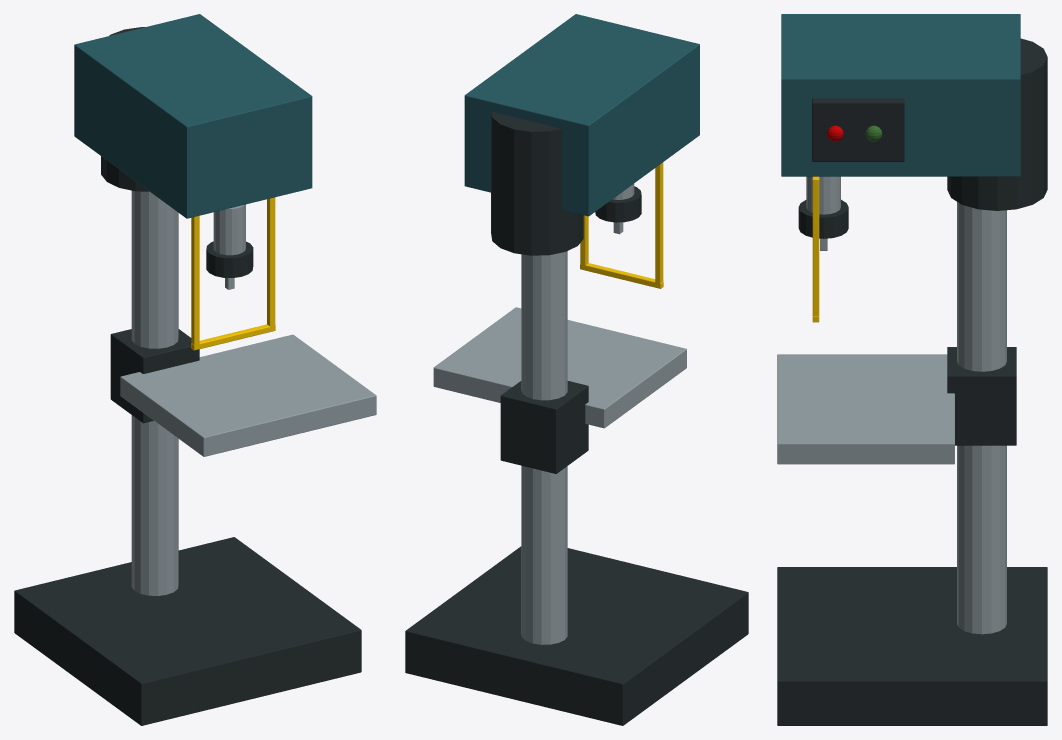
File: source-edit.glb
3 views of the same model, side by side, from view 1: azimuth 30°, elevation 25°; view 2: azimuth 150°, elevation 25°; view 3: azimuth 270°, elevation 25° (orthographic). The views are drawn at different scales.
Visible parts, largest first — view 1: Base, Headstock, Adjustable_Worktable, Column, Column_Collar, Quill, Chuck, Guard_Post, Guard_Post.001, Motor, Guard_Crossbar; view 2: Base, Headstock, Column, Adjustable_Worktable, Motor, Column_Collar, Guard_Post, Chuck, Guard_Crossbar; view 3: Base, Headstock, Adjustable_Worktable, Column, Motor, Control_Panel, Column_Collar, Chuck, Guard_Post.001, Quill.
Boxes of the visible parts, bbox=[...] form: Base: bbox=[14, 537, 361, 725]; Headstock: bbox=[74, 14, 312, 218]; Adjustable_Worktable: bbox=[120, 334, 376, 456]; Column: bbox=[131, 190, 178, 595]; Column_Collar: bbox=[110, 329, 199, 423]; Quill: bbox=[213, 204, 245, 255]; Chuck: bbox=[206, 241, 253, 277]; Guard_Post: bbox=[191, 215, 199, 346]; Guard_Post.001: bbox=[267, 197, 275, 328]; Motor: bbox=[101, 27, 149, 191]; Guard_Crossbar: bbox=[191, 324, 275, 350]; Base: bbox=[405, 546, 748, 725]; Headstock: bbox=[464, 14, 699, 216]; Column: bbox=[521, 251, 567, 644]; Adjustable_Worktable: bbox=[433, 307, 686, 428]; Motor: bbox=[491, 111, 583, 255]; Column_Collar: bbox=[500, 381, 588, 473]; Guard_Post: bbox=[655, 162, 663, 285]; Chuck: bbox=[595, 186, 641, 222]; Guard_Crossbar: bbox=[580, 263, 663, 288]; Base: bbox=[777, 567, 1047, 725]; Headstock: bbox=[781, 14, 1020, 176]; Adjustable_Worktable: bbox=[777, 354, 954, 464]; Column: bbox=[957, 202, 1006, 634]; Motor: bbox=[947, 38, 1047, 210]; Control_Panel: bbox=[812, 98, 904, 161]; Column_Collar: bbox=[947, 347, 1016, 445]; Chuck: bbox=[798, 199, 848, 238]; Guard_Post.001: bbox=[812, 176, 819, 316]; Quill: bbox=[806, 176, 840, 214].
Bounding box in the file's own units: 0.748 × 1.78 × 0.7.
